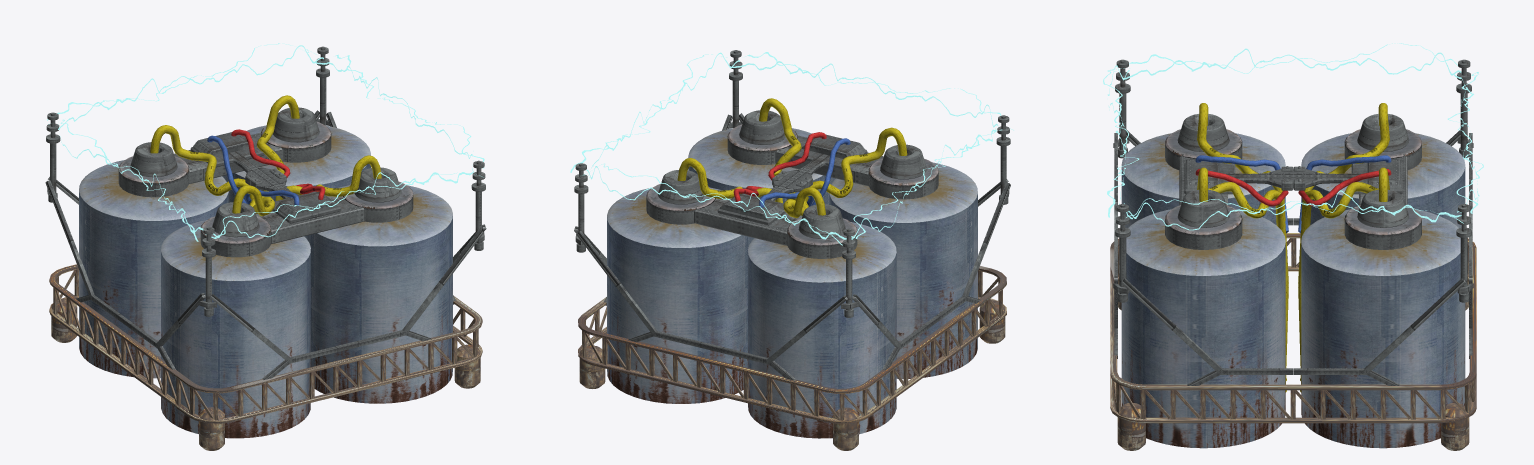
File: static.fbx
3 views of the same model, side by side, from view 1: azimuth 30°, elevation 25°; view 2: azimuth 150°, elevation 25°; view 3: azimuth 270°, elevation 25° (orthographic). The views are drawn at different scales.
Visible parts, largest first — view 1: Cylinder_3_2, Disc, Sweep, Cylinder_2_2_2, Cylinder_1_2, Sweep_5, Cube_51, Cylinder, Cube_50, Cube_1_50, Cube_2_2, Cube_2 (+7 smaller); view 2: Cylinder_3_2, Disc, Sweep, Cylinder_2_2_2, Cylinder_1_2, Sweep_5, Cube_51, Cylinder, Cube_50, Cube_2_2, Cube_1_50, Cube_2 (+7 smaller); view 3: Cylinder_3_2, Disc, Sweep, Cylinder_2_2_2, Cylinder_1_2, Sweep_5, Cylinder, Cube_1_50, Cube_2, Cylinder_1, Cube_50, Cube_2_2 (+8 smaller).
Part boxes in pixels (box(x1,y1,x2,y2)): Cylinder_3_2: box(79, 164, 452, 438); Disc: box(79, 125, 452, 280); Sweep: box(49, 264, 482, 423); Cylinder_2_2_2: box(118, 121, 413, 257); Cylinder_1_2: box(130, 107, 401, 237); Sweep_5: box(150, 95, 381, 216); Cube_51: box(174, 132, 365, 243); Cylinder: box(51, 299, 480, 450); Cube_50: box(192, 132, 339, 218); Cube_1_50: box(190, 146, 341, 223); Cube_2_2: box(48, 110, 483, 363); Cube_2: box(45, 112, 486, 347); Cylinder_3_2: box(607, 157, 977, 438); Disc: box(607, 128, 977, 282); Sweep: box(578, 266, 1006, 423); Cylinder_2_2_2: box(646, 124, 938, 258); Cylinder_1_2: box(658, 110, 927, 238); Sweep_5: box(677, 98, 907, 218); Cube_51: box(694, 135, 883, 245); Cylinder: box(579, 300, 1005, 450); Cube_50: box(719, 134, 864, 220); Cube_2_2: box(576, 113, 1008, 363); Cube_1_50: box(717, 148, 867, 225); Cube_2: box(574, 114, 1010, 348); Cylinder_3_2: box(1121, 167, 1465, 448); Disc: box(1121, 133, 1465, 275); Sweep: box(1110, 233, 1476, 423); Cylinder_2_2_2: box(1165, 129, 1421, 249); Cylinder_1_2: box(1177, 114, 1409, 227); Sweep_5: box(1197, 103, 1389, 392); Cylinder: box(1117, 273, 1469, 450); Cube_1_50: box(1184, 162, 1402, 194); Cube_2: box(1121, 129, 1465, 374); Cylinder_1: box(1119, 93, 1467, 294); Cube_50: box(1186, 159, 1400, 189); Cube_2_2: box(1114, 133, 1472, 328).
Size of the model in its own units: 504 by 368 by 504.
Materials: 9 (8 with a texture image).
